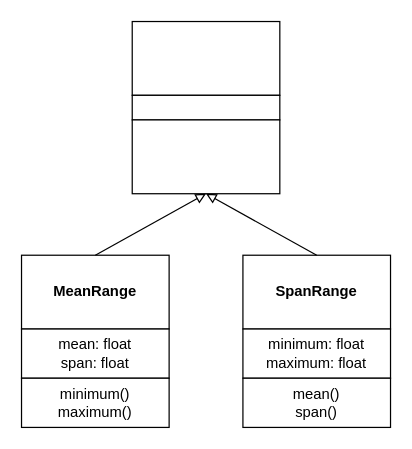
Some shapes in this 412 by 449 pixel diagram are drawn without their labels. The shapes that lost their labels are listed below. From the top down, each one's centre as x and y in pixels, then its label:
At pixel 205 57: "Range".
At pixel 205 156: "quartile()".
